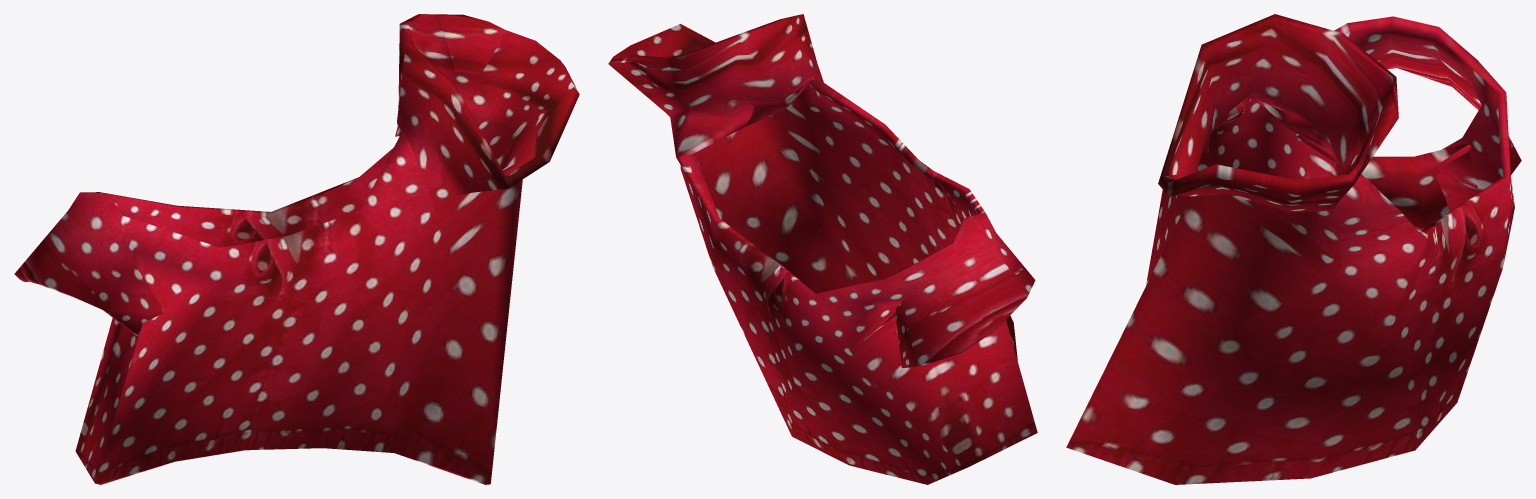
The model's file is m-top4.fbx.
3 views of the same model, side by side, from view 1: azimuth 30°, elevation 25°; view 2: azimuth 150°, elevation 25°; view 3: azimuth 270°, elevation 25° (orthographic). The views are drawn at different scales.
Visible parts, largest first — view 1: M.Top.Short.011; view 2: M.Top.Short.011; view 3: M.Top.Short.011.
Part boxes in pixels (x1,y1,x2,y2): M.Top.Short.011: (14, 14, 579, 484); M.Top.Short.011: (608, 14, 1037, 484); M.Top.Short.011: (1066, 14, 1521, 484).
Bounding box in the file's own units: 502 × 397 × 346.
